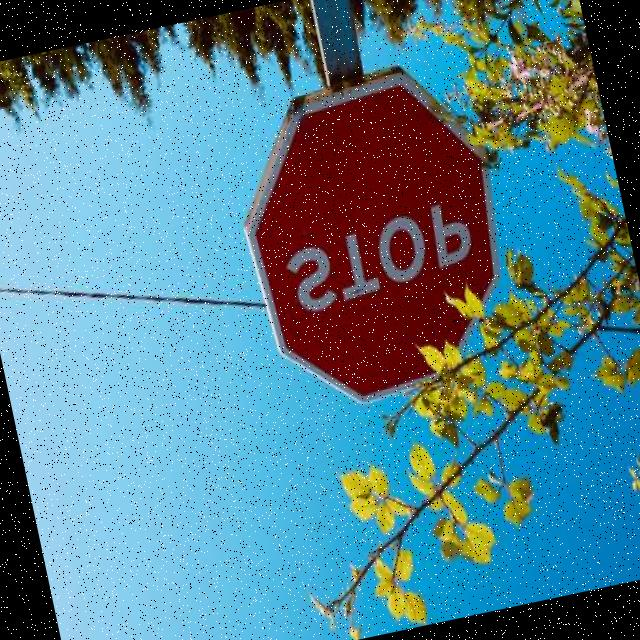stop: (208, 39, 540, 434)
